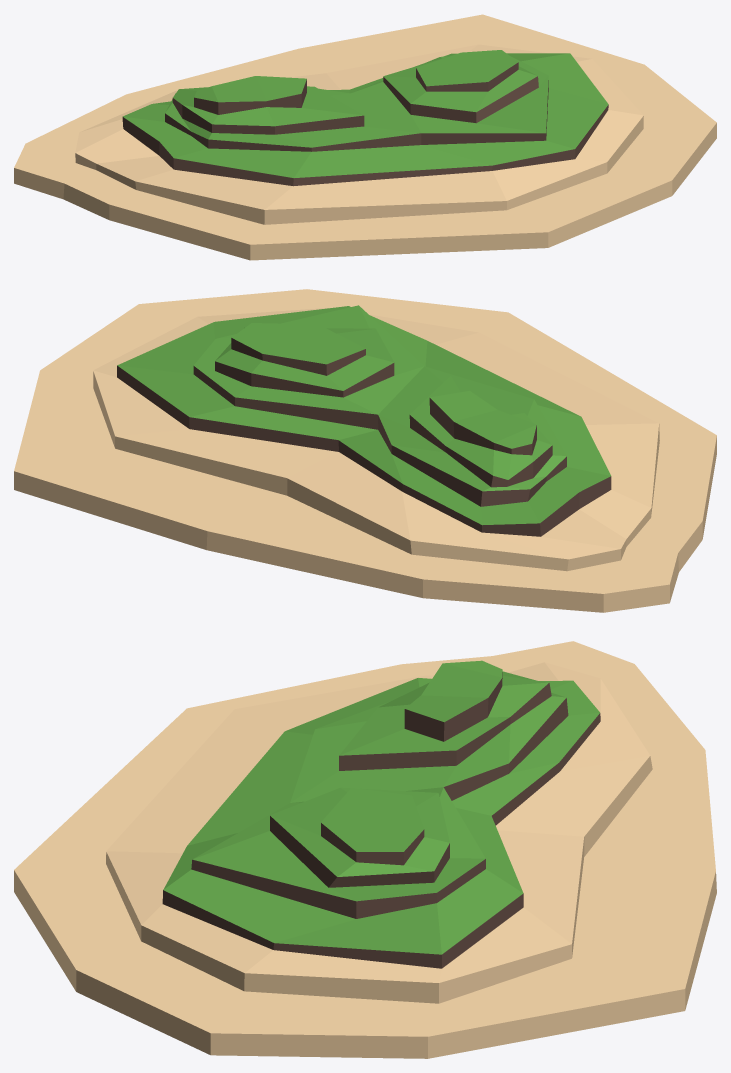
3 views of the same model, one above another, from view 1: azimuth 30°, elevation 25°; view 2: azimuth 150°, elevation 25°; view 3: azimuth 270°, elevation 25° (orthographic). The views are drawn at different scales.
Visible parts, largest first — view 1: Plan; view 2: Plan; view 3: Plan.
Boxes of the visible parts, x1,y1,x2,y2 form: Plan: (14, 14, 716, 260); Plan: (14, 289, 716, 612); Plan: (14, 641, 716, 1058).
Size of the model in its own units: 1609 by 208 by 1208.
